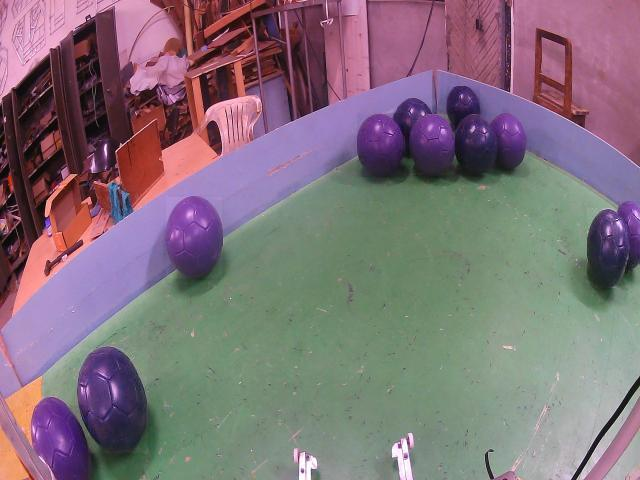jambhalya: (167, 197, 222, 278), (30, 405, 88, 480), (357, 113, 404, 177), (410, 115, 455, 175), (492, 113, 526, 170), (619, 201, 639, 270)
kaalyya: (77, 349, 148, 453), (587, 209, 630, 288), (455, 115, 497, 175), (394, 98, 431, 157), (446, 87, 480, 129)
